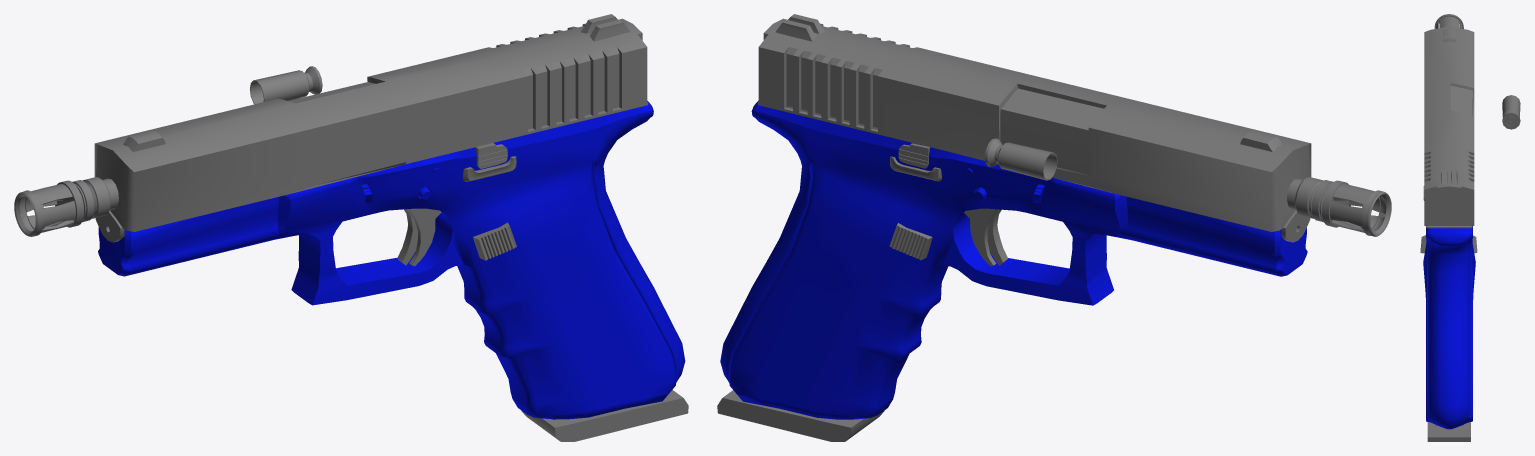
File: pistol glock 22.fbx
3 views of the same model, side by side, from view 1: azimuth 30°, elevation 25°; view 2: azimuth 150°, elevation 25°; view 3: azimuth 270°, elevation 25° (orthographic). The views are drawn at different scales.
Parts seen in each view (by area): view 1: stock, barrel, flah hider, magazine, bullet huls, magazine trigger trigger, trigger, safety; view 2: stock, barrel, bullet chamber closed, flah hider, magazine, bullet huls, trigger, magazine trigger trigger, safety; view 3: barrel, stock, magazine, bullet huls, bullet chamber closed, flah hider, magazine trigger trigger.
Boxes of the visible parts, <box> form: stock: <box>98,101,685,419</box>; barrel: <box>94,14,648,242</box>; flah hider: <box>14,177,118,236</box>; magazine: <box>521,390,688,441</box>; bullet huls: <box>250,66,322,104</box>; magazine trigger trigger: <box>462,156,516,260</box>; trigger: <box>397,208,441,266</box>; safety: <box>475,143,507,168</box>; stock: <box>720,100,1307,419</box>; barrel: <box>757,14,1311,242</box>; bullet chamber closed: <box>1000,88,1103,174</box>; flah hider: <box>1287,177,1391,236</box>; magazine: <box>717,390,884,441</box>; bullet huls: <box>985,138,1057,180</box>; trigger: <box>964,208,1007,266</box>; magazine trigger trigger: <box>889,156,941,260</box>; safety: <box>898,143,929,168</box>; barrel: <box>1424,26,1474,228</box>; stock: <box>1423,226,1475,429</box>; magazine: <box>1427,422,1470,441</box>; bullet huls: <box>1502,95,1520,129</box>; bullet chamber closed: <box>1451,85,1472,115</box>; flah hider: <box>1434,14,1463,28</box>; magazine trigger trigger: <box>1420,186,1477,253</box>.
Size of the model in its own units: 29.09 by 16.78 by 6.09.
